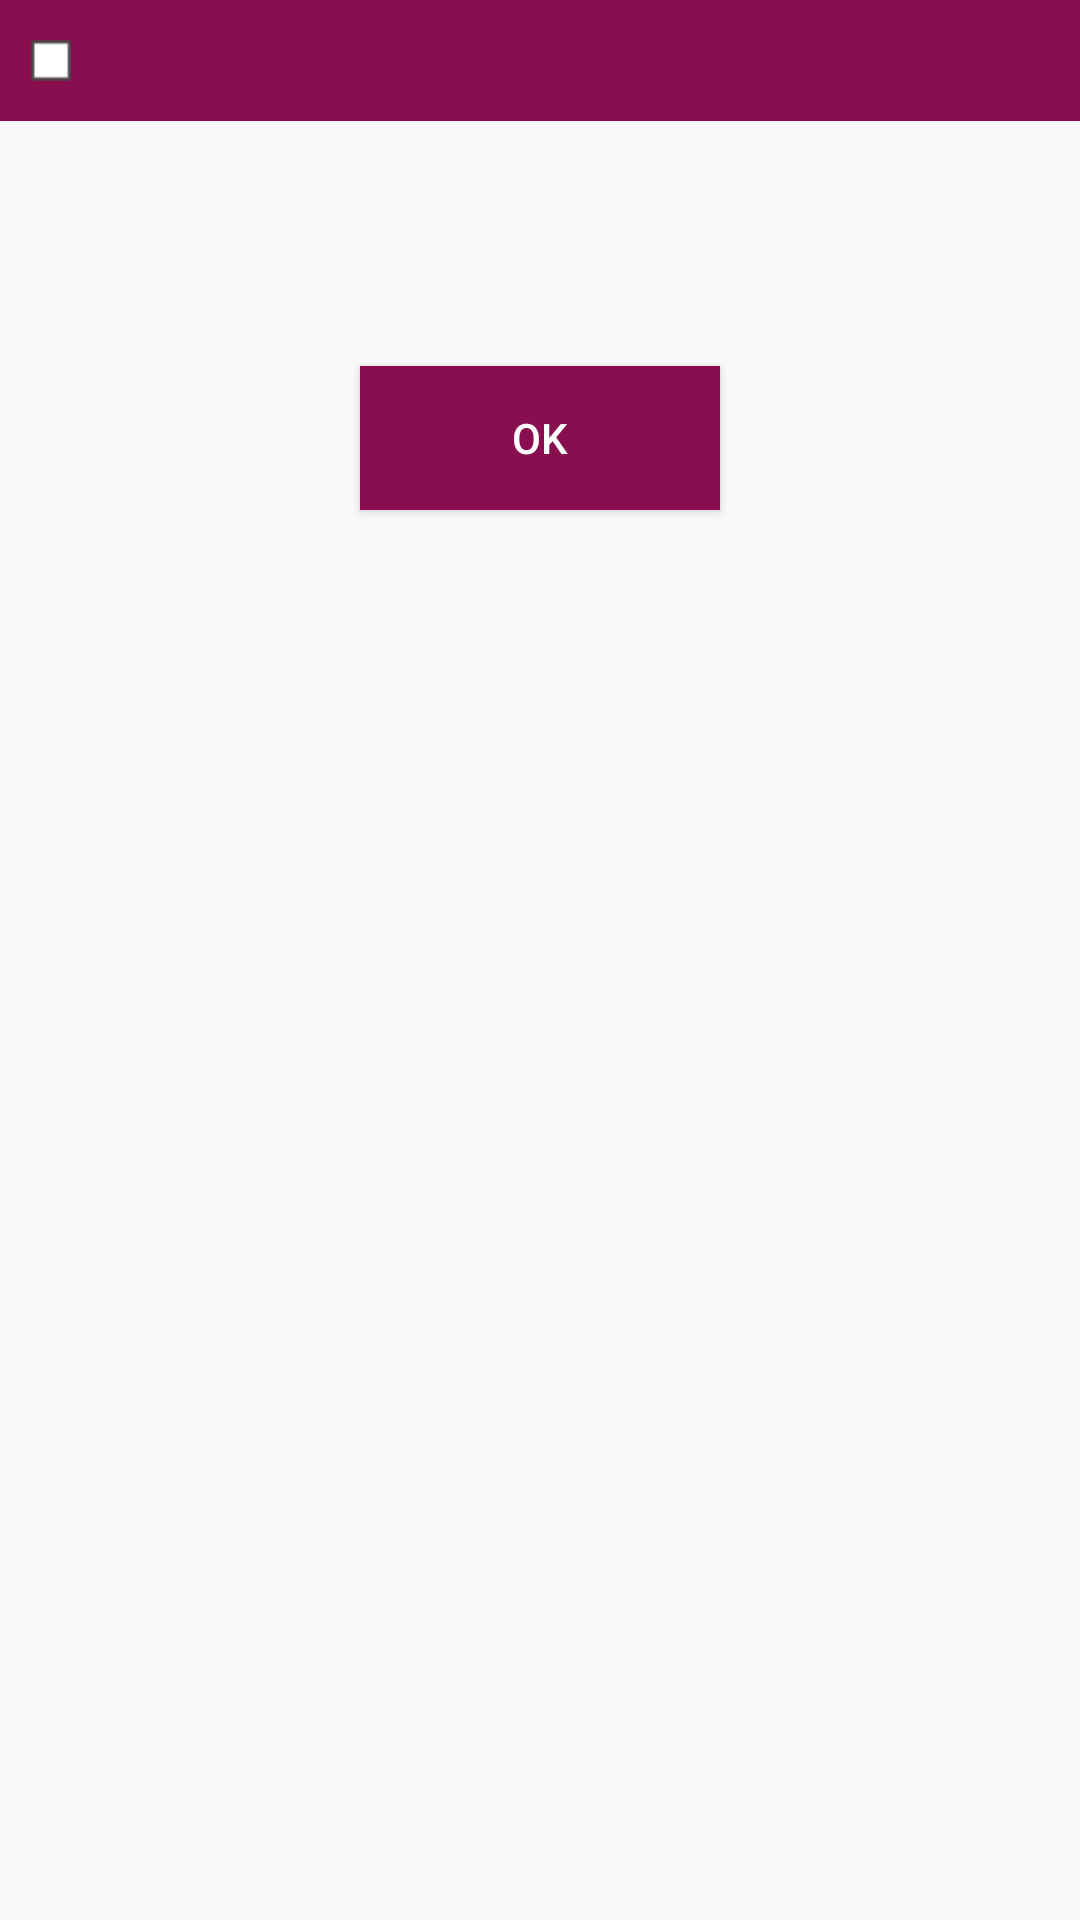

Icons on this 1080×1920 Android screen, each with its box as box(x1, y1, x2, y2):
box uncheck: box(31, 40, 71, 81)
